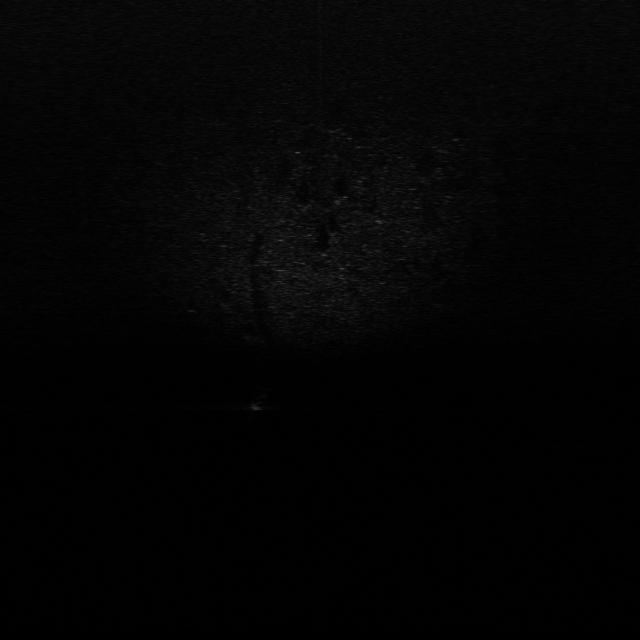human body: (242, 383, 274, 422)
